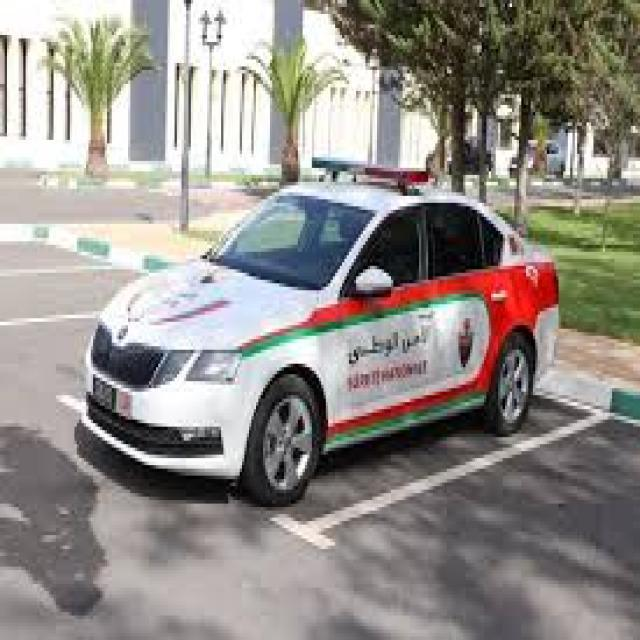police: (95, 152, 570, 494)
